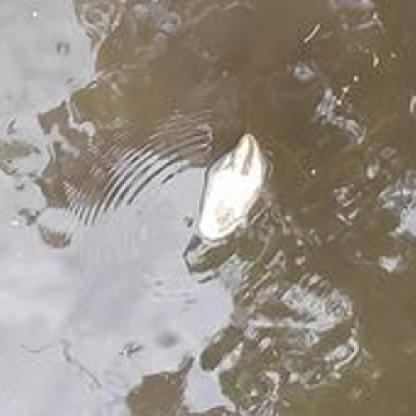Trash: (199, 129, 266, 242)
